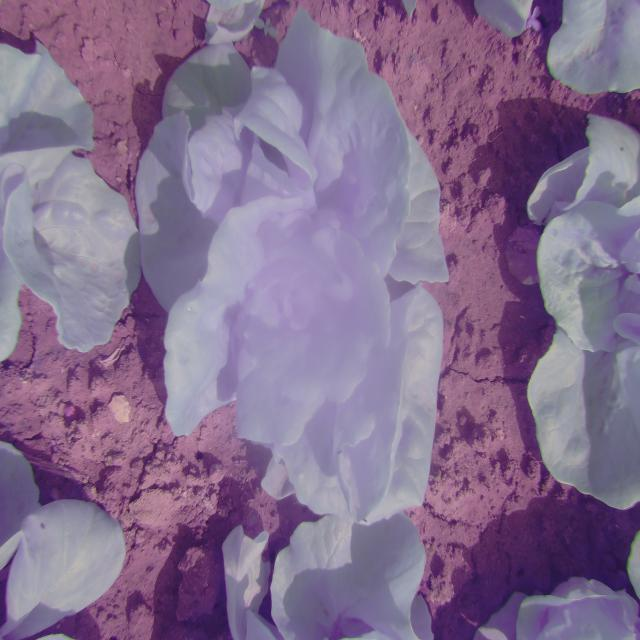vege: (128, 15, 448, 522)
